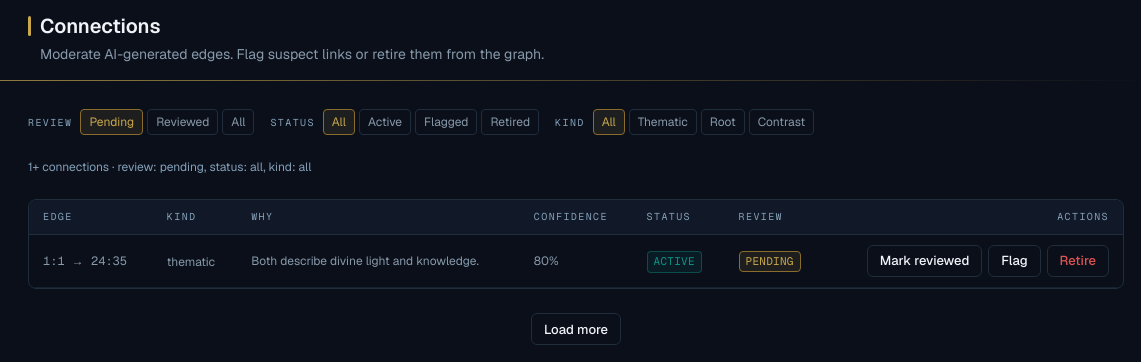
Test: ConnectionsPage — confidence column › shows Load more only when hasMore, and appends the next page with an offset
The width and height of the screenshot is (1141, 362).
Click the button "Load more": point(576, 329) [531, 313, 621, 345]
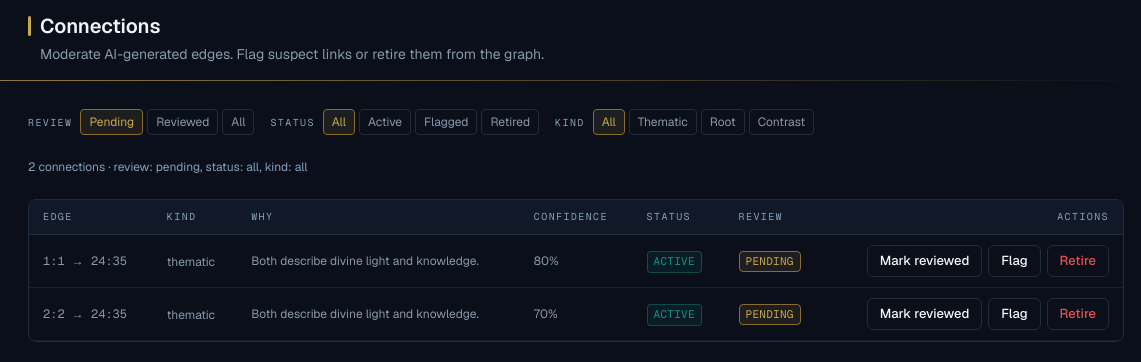
Check: the text "1:1 → 24:35" is shown, box [29, 235, 153, 288]
Check: the text "2:2 → 24:35" is shown, box [29, 288, 153, 341]
Check: the button "Load more" is gone
